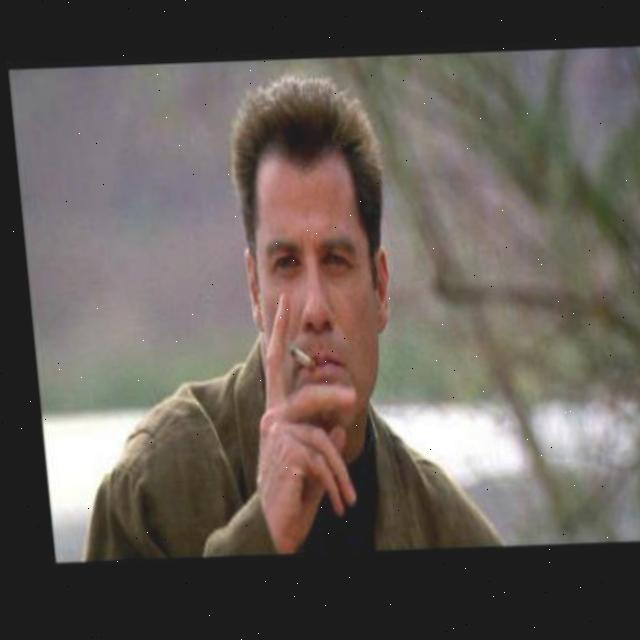cigarette: (279, 348, 310, 375)
